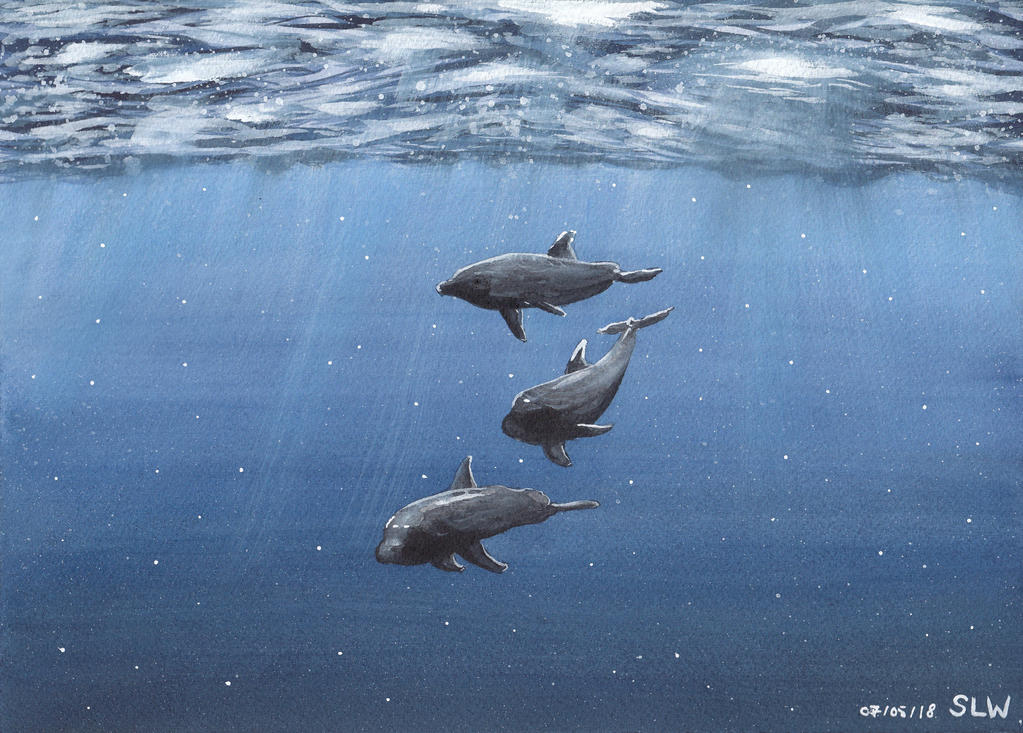dolphin: (467, 315, 730, 466), (337, 455, 633, 588), (420, 225, 678, 328)
